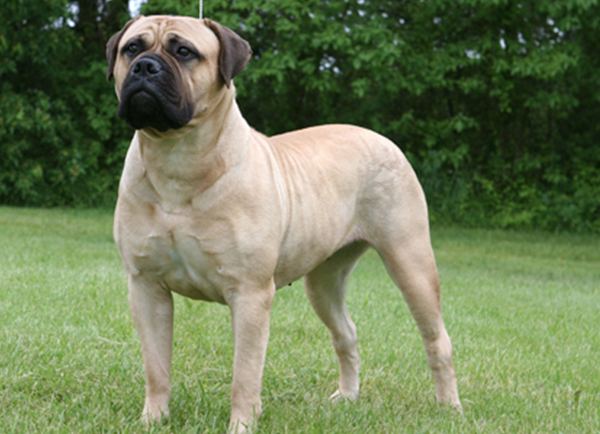mastiff: (104, 14, 462, 434)
